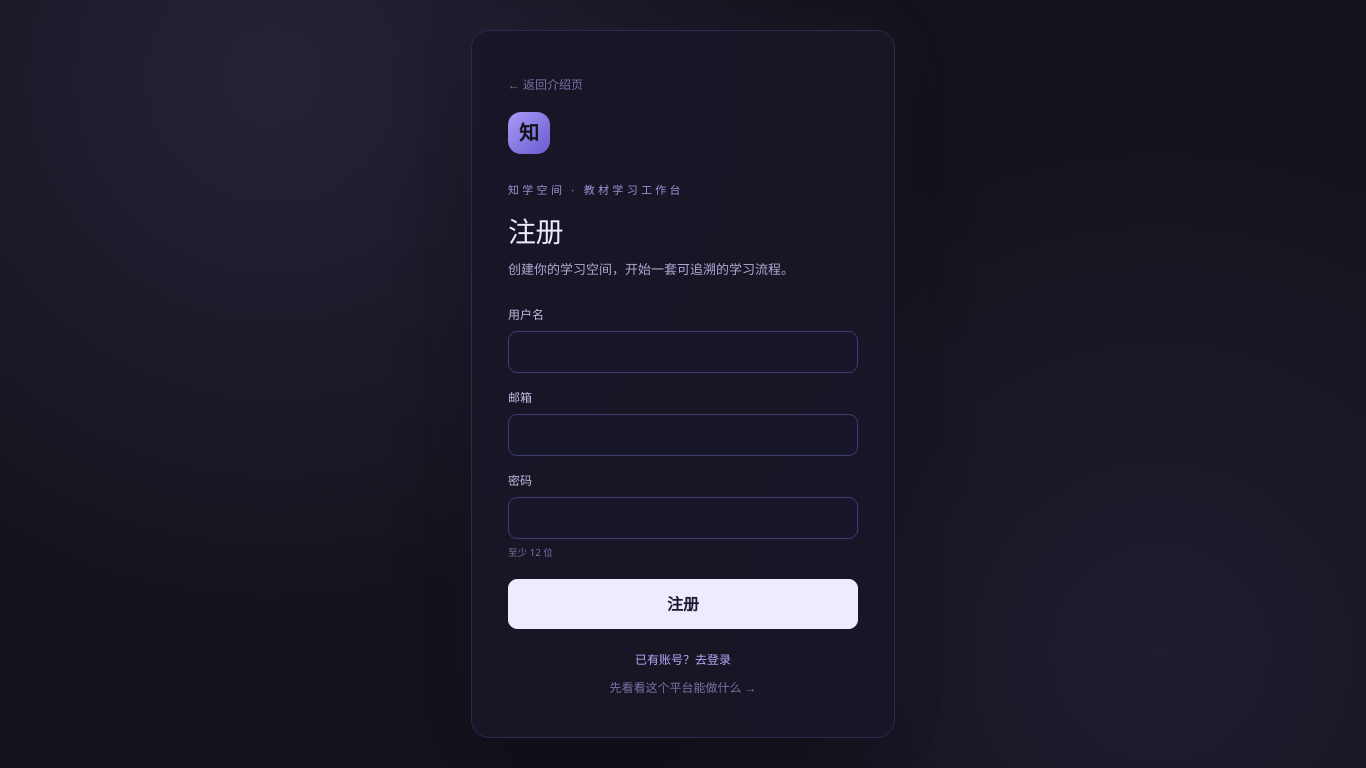
AuthForm › explains that an existing account should be opened from the login page
The image size is (1366, 768).
Type "existing-user" into the field labelled "用户名" at x=683, y=352, box x1=508 y1=331 x2=858 y2=373
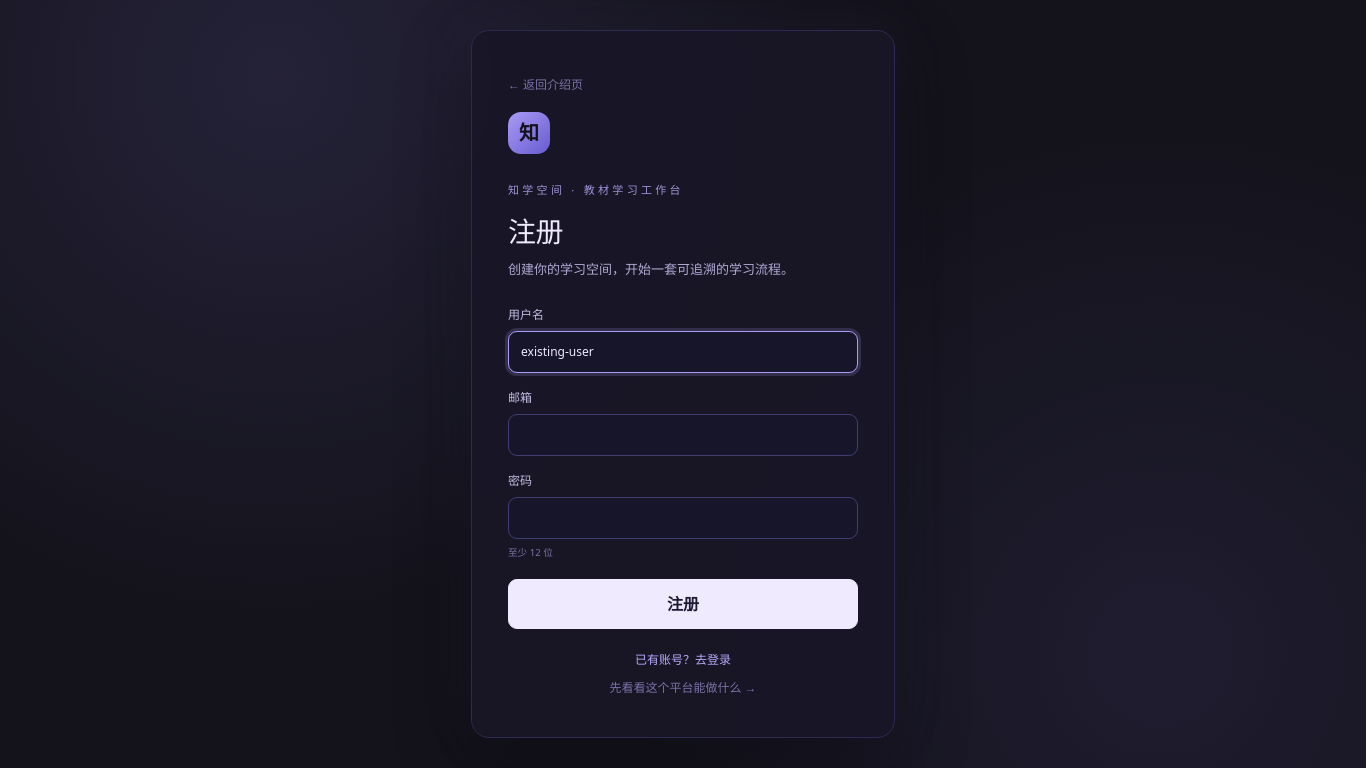
Type "existing@example.com" into the field labelled "邮箱" at x=683, y=435, box x1=508 y1=414 x2=858 y2=456
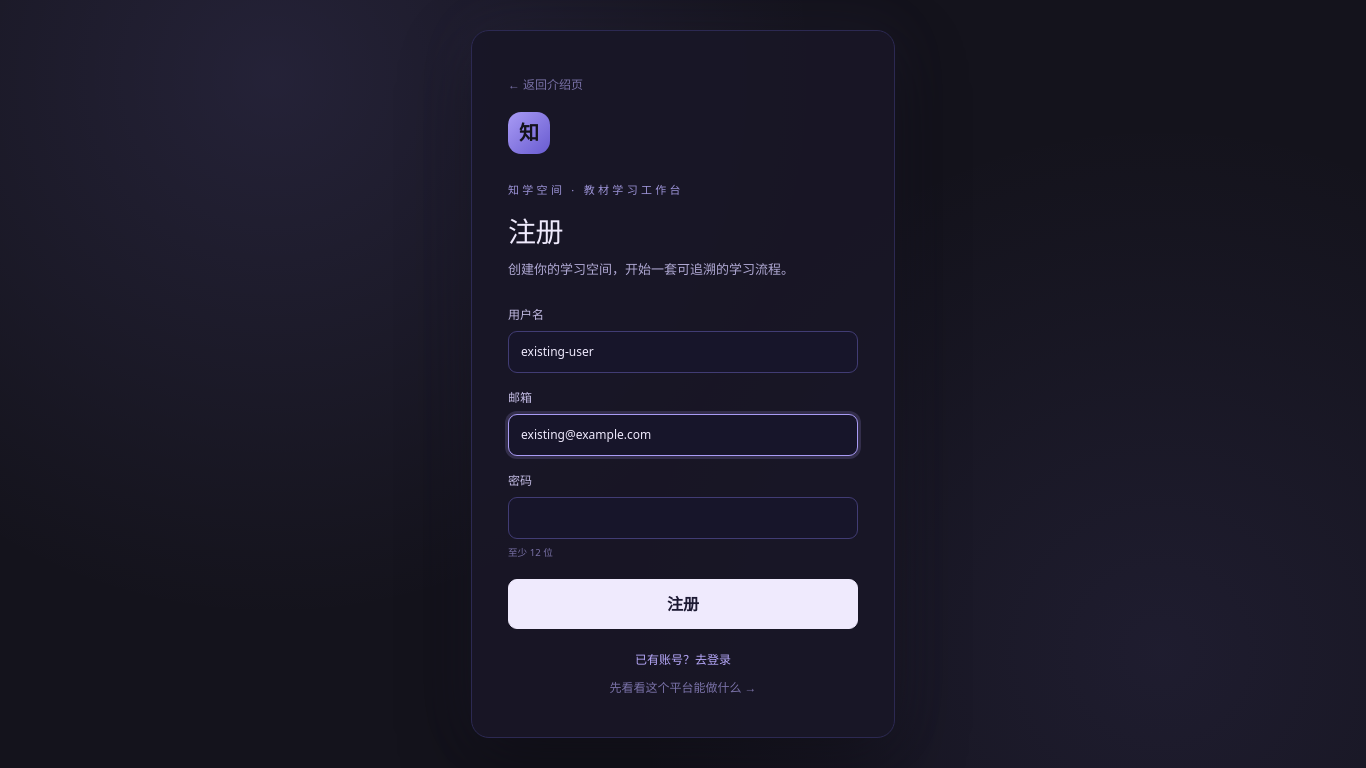
Type "correct horse battery staple 9" into the password field labelled "密码" at x=683, y=518, box x1=508 y1=497 x2=858 y2=539
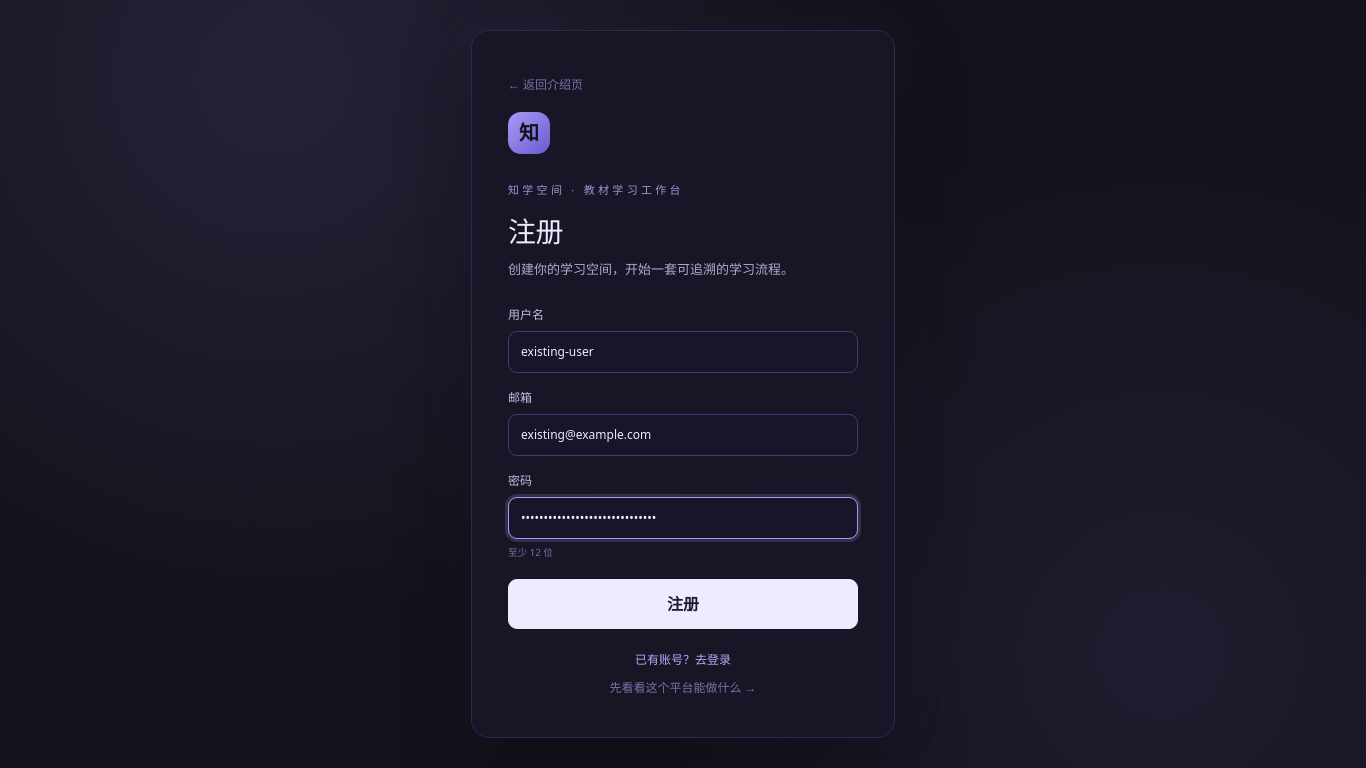
Click the button "注册" at x=683, y=604, box x1=508 y1=579 x2=858 y2=629
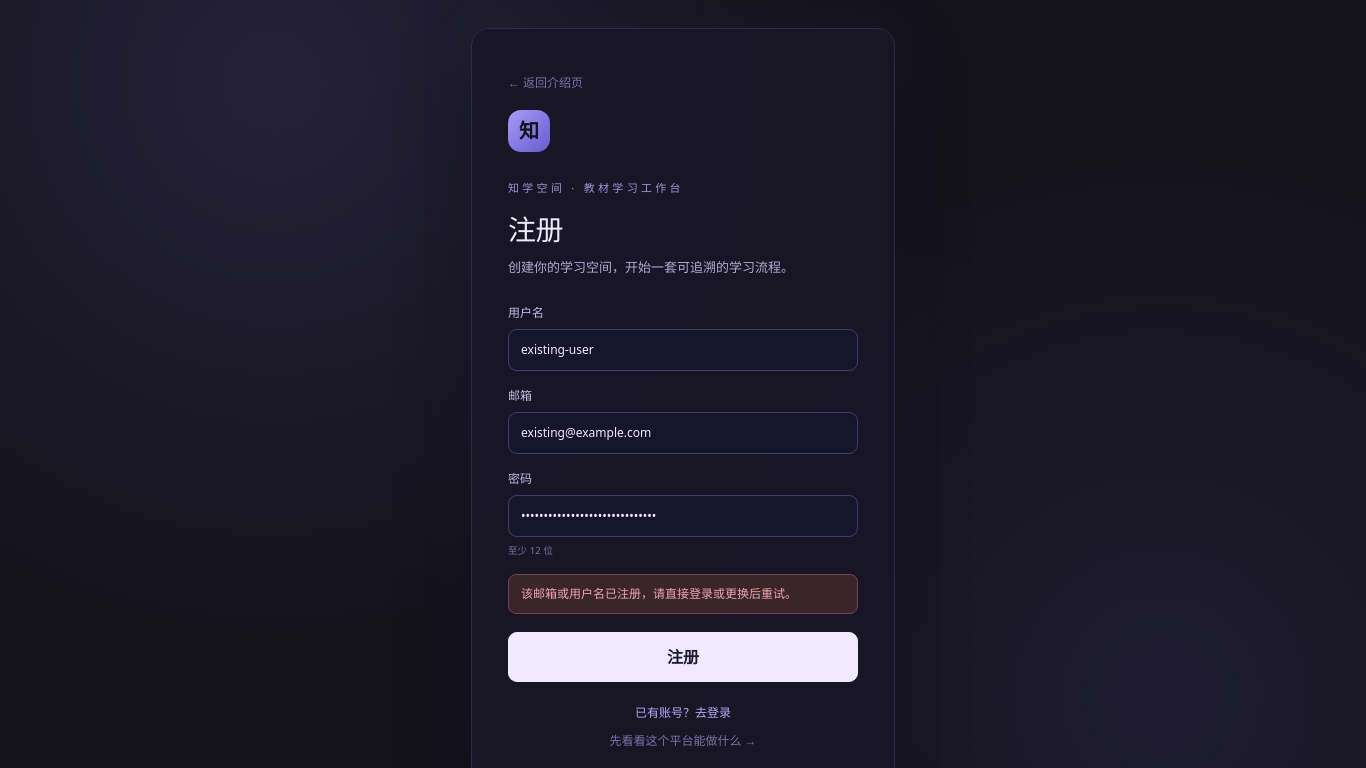
Expected: the message reads "该邮箱或用户名已注册，请直接登录或更换后重试。", x1=521 y1=585 x2=797 y2=602
